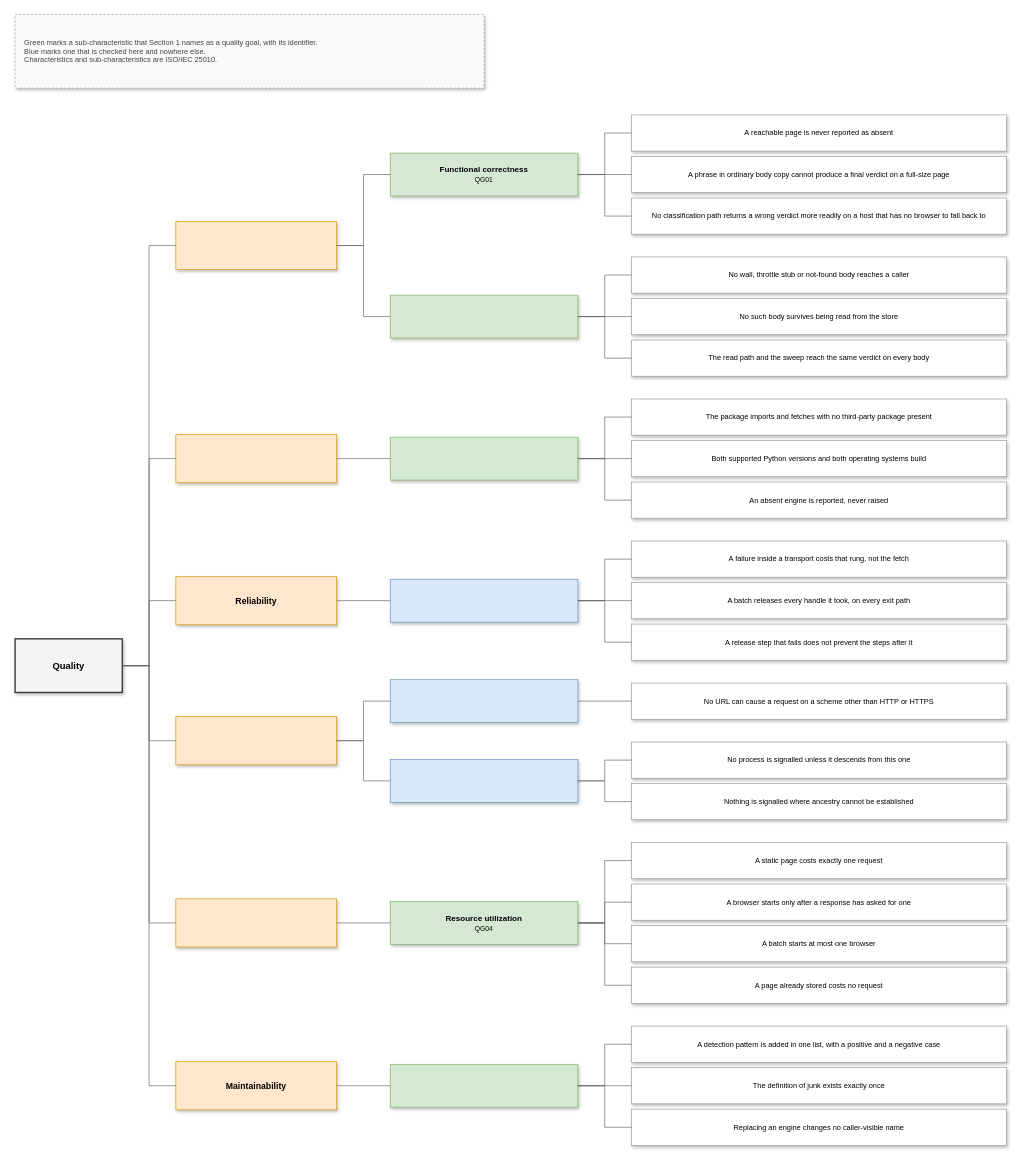
Some shapes in this 1022 by 1162 pixel diagram are drawn without their labels. Each missing label, with the centre of its shape:
Adaptability QG03: pixel 484 459
Fault tolerance: pixel 484 601
Flexibility: pixel 257 459
Functional completeness QG02: pixel 484 317
Functional Suitability: pixel 257 246
Integrity: pixel 484 781
Modifiability QG05: pixel 484 1086
Performance Efficiency: pixel 257 923
Resistance: pixel 484 701
Security: pixel 257 741
